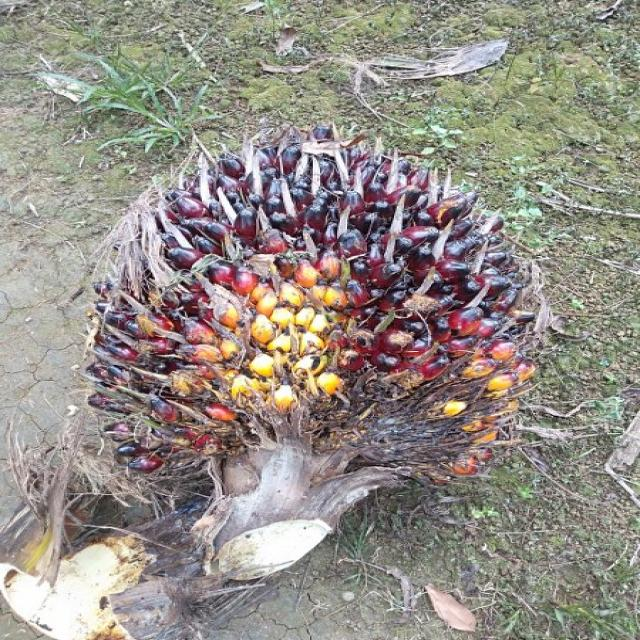fraksi 00: (41, 101, 599, 569)
